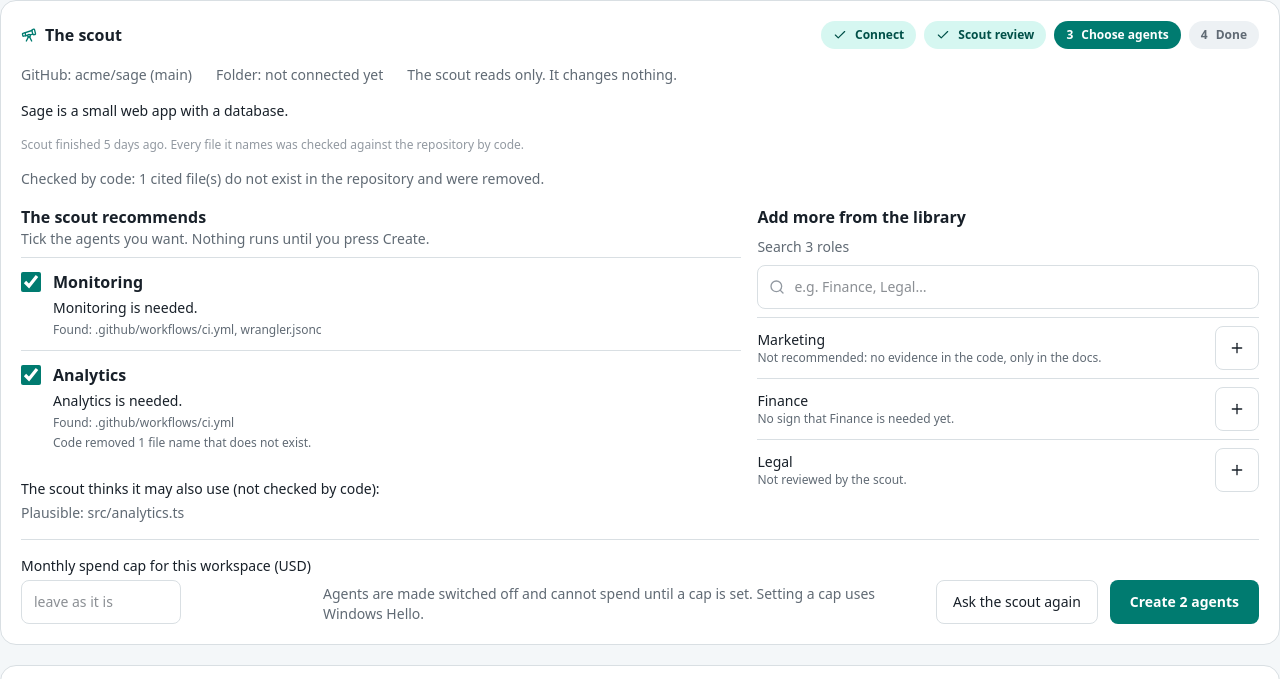
it: the scout on the Agents tab › a failure half way says how many were made
This screenshot has width=1280, height=679.
What coordinates should you click on to do the following:
click the button "Create 2 agents"
I would click on:
 (1184, 602)
Its box is [1110,580,1259,624].
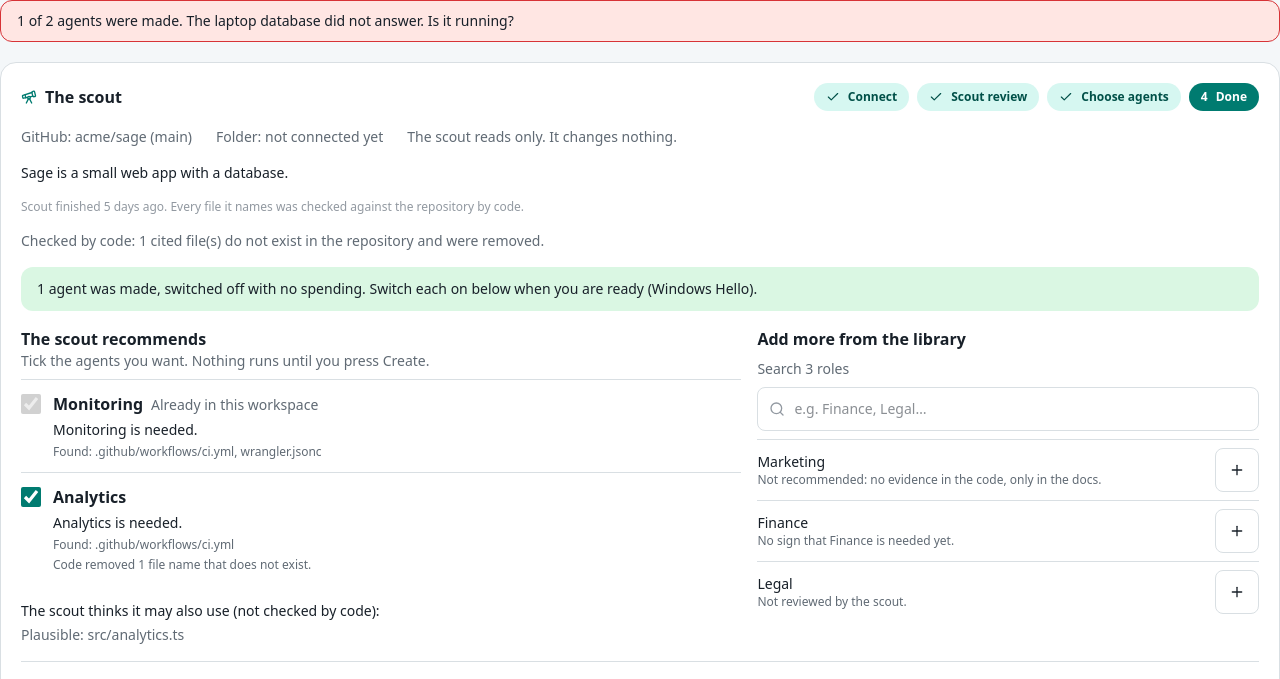
Now the text "1 of 2 agents were made. The laptop database did not answer. Is it running?" is shown, box [0,0,1279,42]
